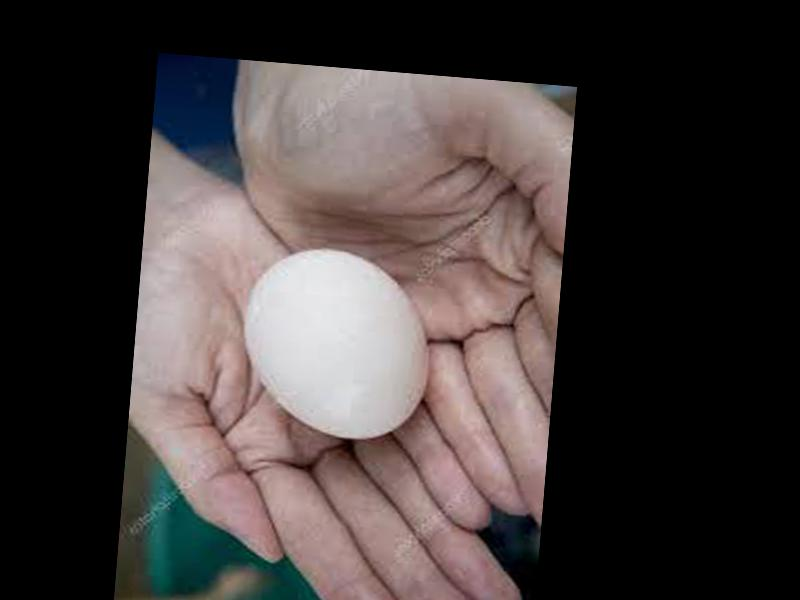Eggs: (240, 245, 432, 444)
